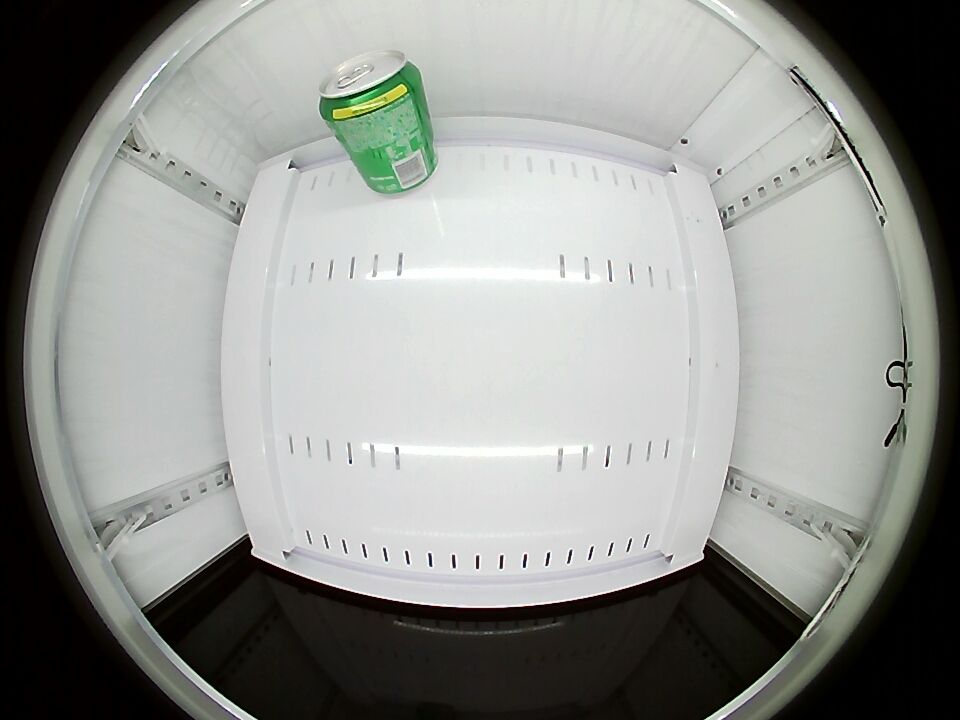xuebi2: (318, 51, 423, 127)
